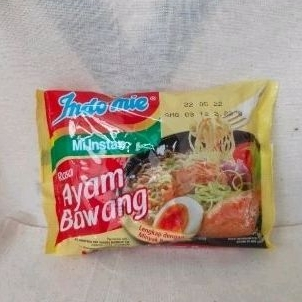Indomie Ayam Bawang (69g): (21, 82, 279, 254)
